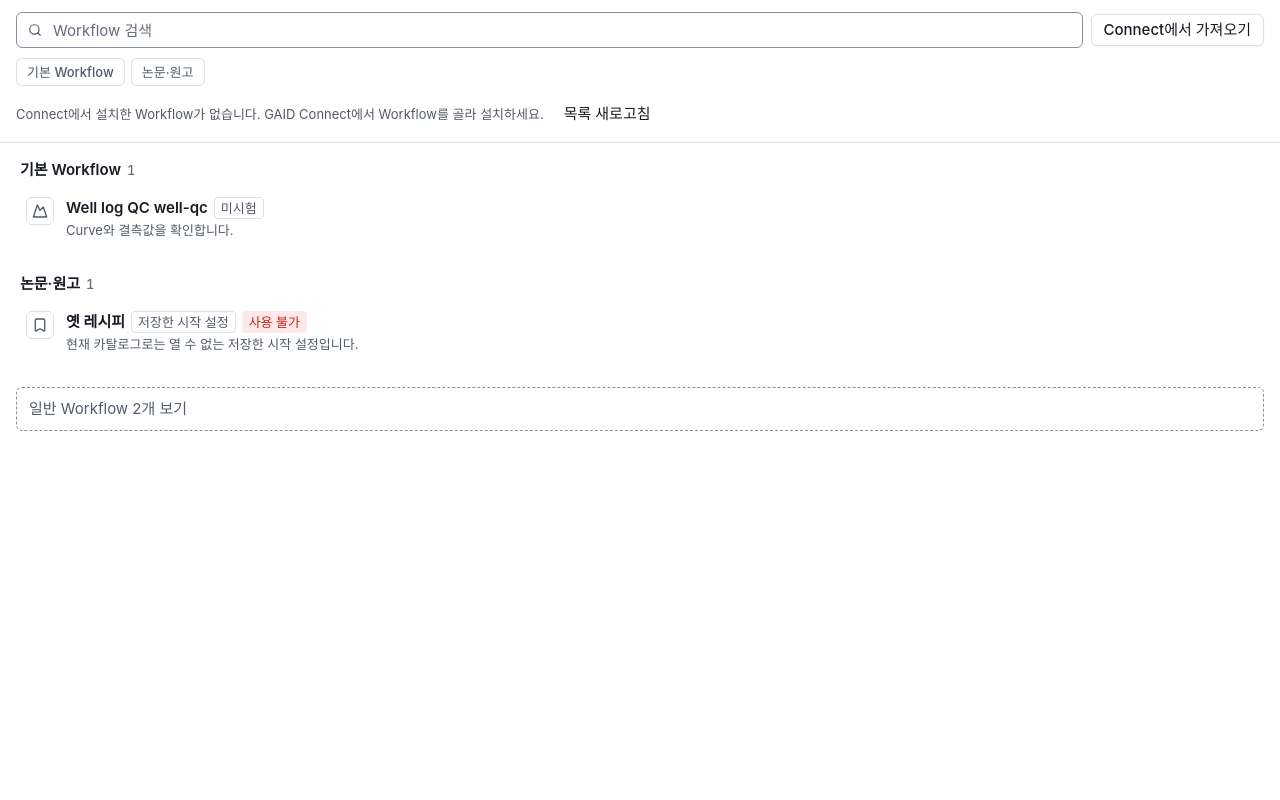
Scenario: task catalogue and setup › keeps a saved recipe the catalogue rejects and explains why
The image size is (1280, 800).
Expected: the text "사용 불가" is shown, [242,311,307,333]
Expected: the heading "논문·원고1" is shown, [20,274,94,293]
What coordinates should you click on to do the following:
click the button "옛 레시피 저장한 시작 설정 사용 불가 현재 카탈로그로는 열 수 없는 저장한 시작 설정입니다."
I would click on:
 (95, 322)
Its box is [16,301,1264,363].
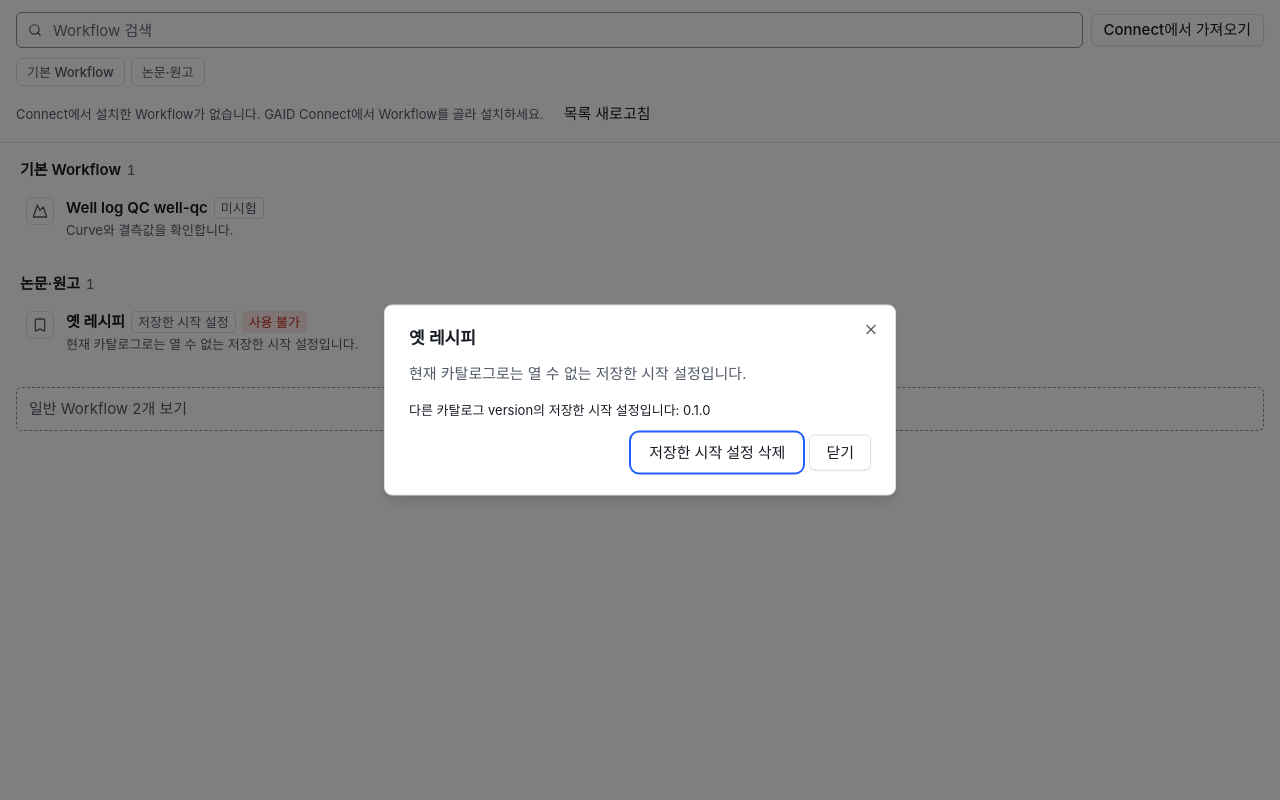
Expected: the message reads "다른 카탈로그 version의 저장한 시작 설정입니다: 0.1.0", [409,402,710,418]
